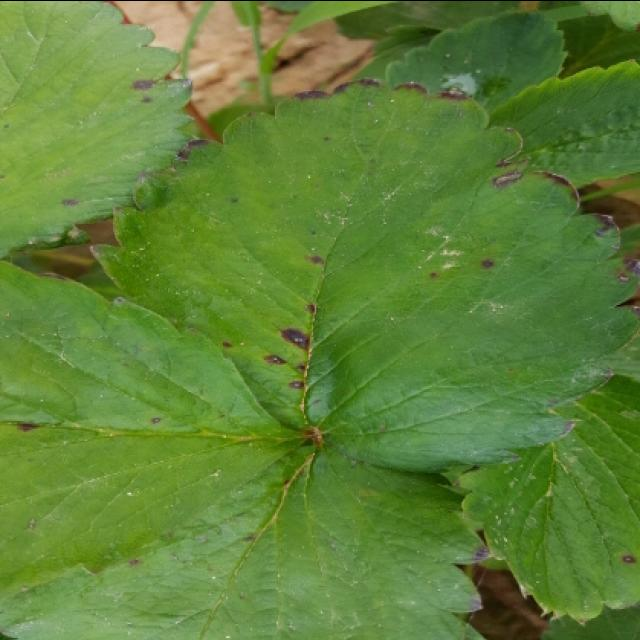Leaf Spot: (88, 74, 638, 472), (0, 257, 313, 600), (0, 2, 196, 258), (450, 374, 638, 626)
